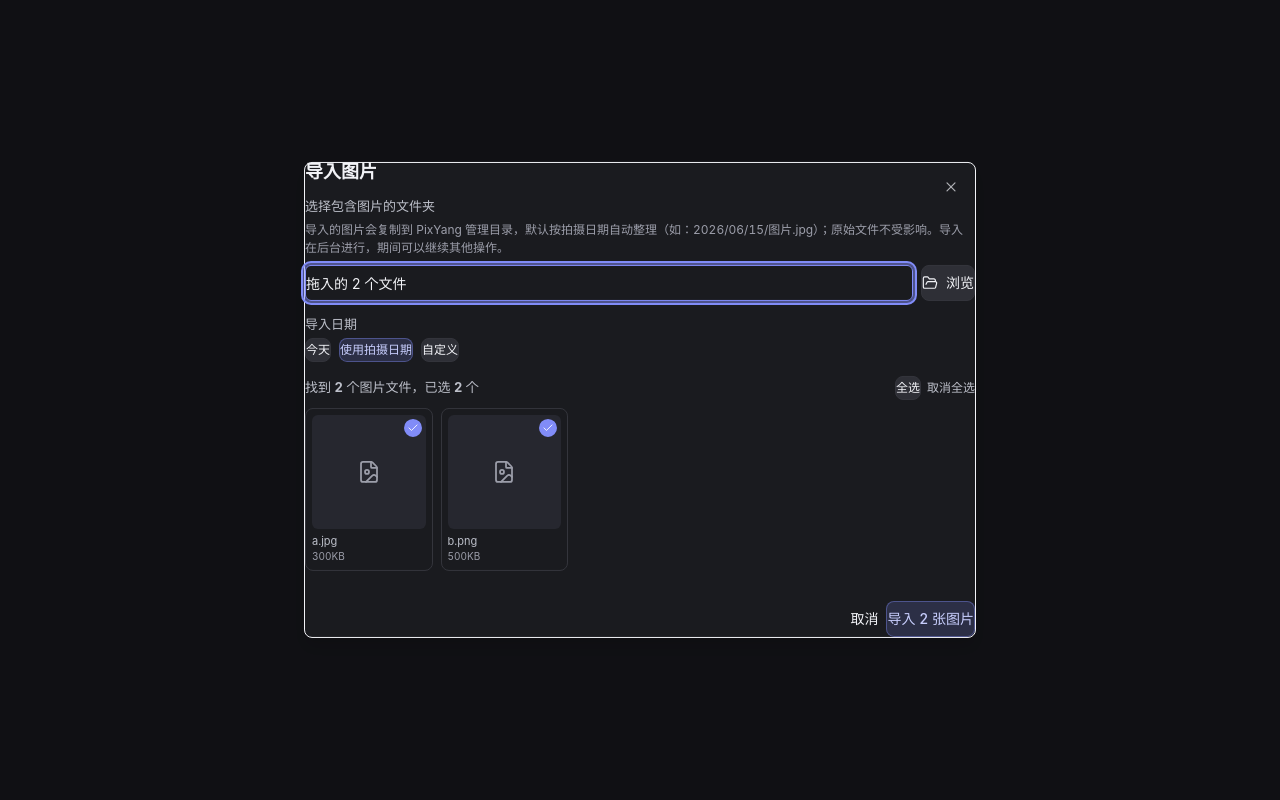
Test: ImportDialog › 点击文件卡片取消勾选后，导入按钮数字变化
Expected: the field showing "拖入的 2 个文件" is shown, [305, 264, 913, 300]
radix Dialog 内容挂在 body 传送门，需从 document 查询
Click the element with class "import-file-card" showing "a.jpg 300KB" at (369, 490), box [305, 408, 433, 571]
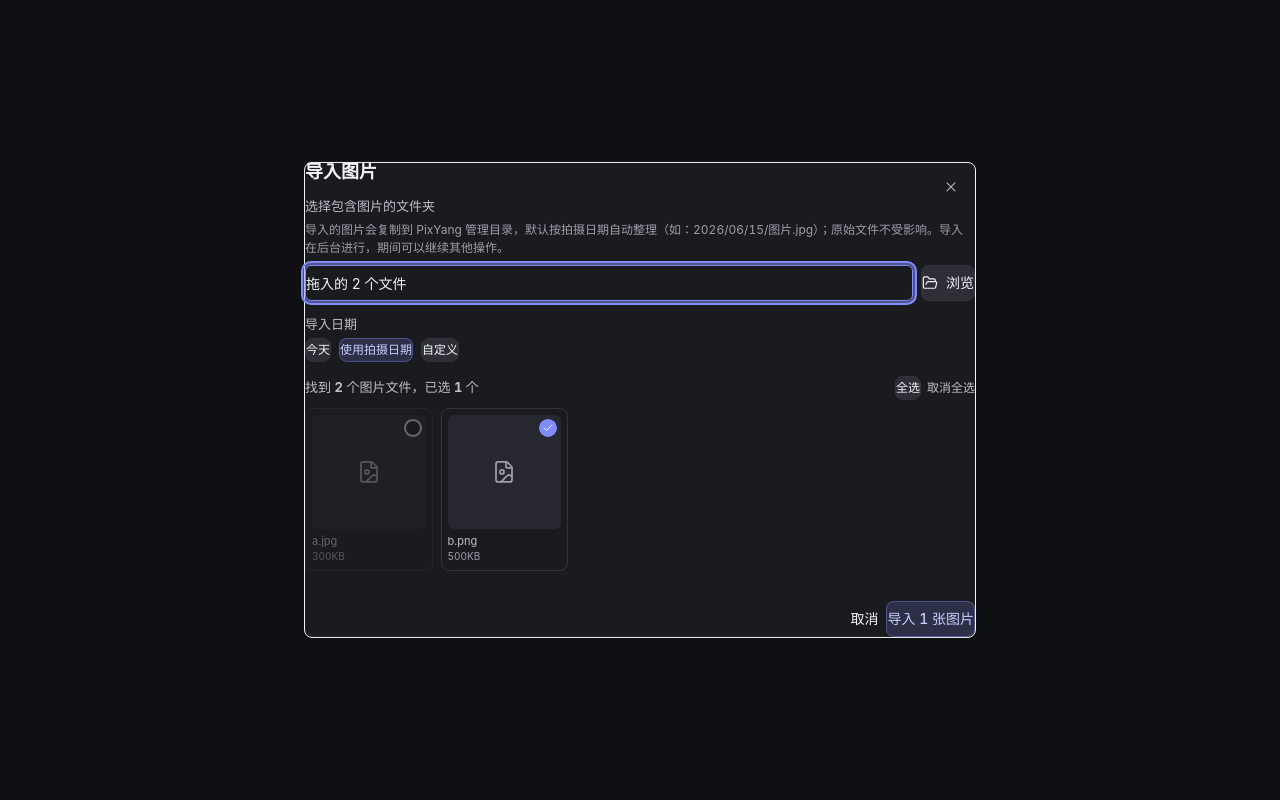
Now the button "导入 1 张图片" is shown, box [886, 601, 975, 637]
再点一次恢复勾选
Click the element with class "import-file-card" showing "a.jpg 300KB" at (369, 490), box [305, 408, 433, 571]
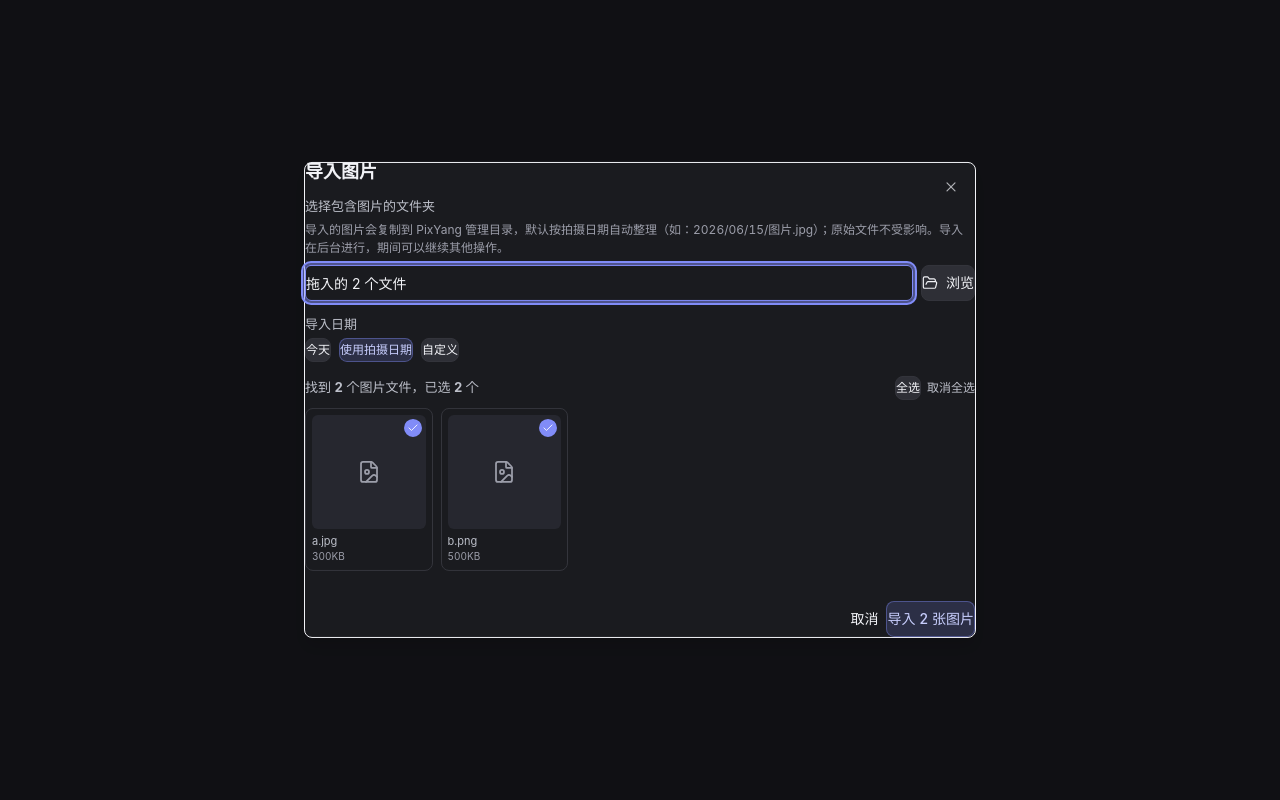
Now the button "导入 2 张图片" is shown, box [886, 601, 975, 637]
